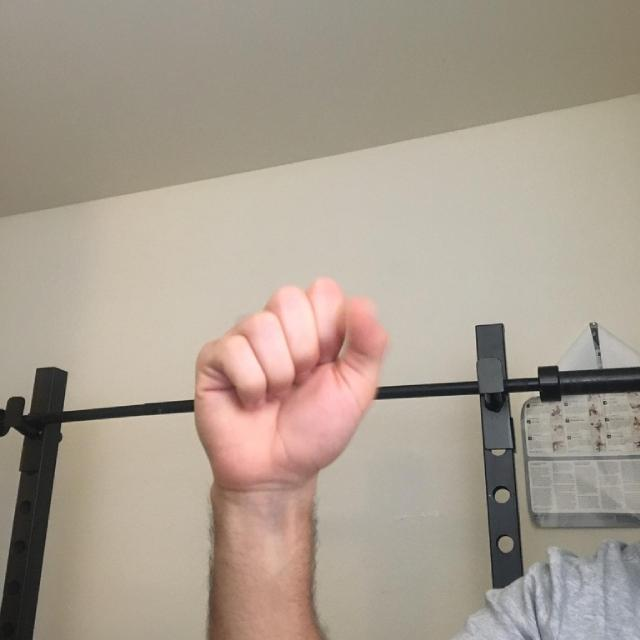S: (152, 254, 419, 539)
